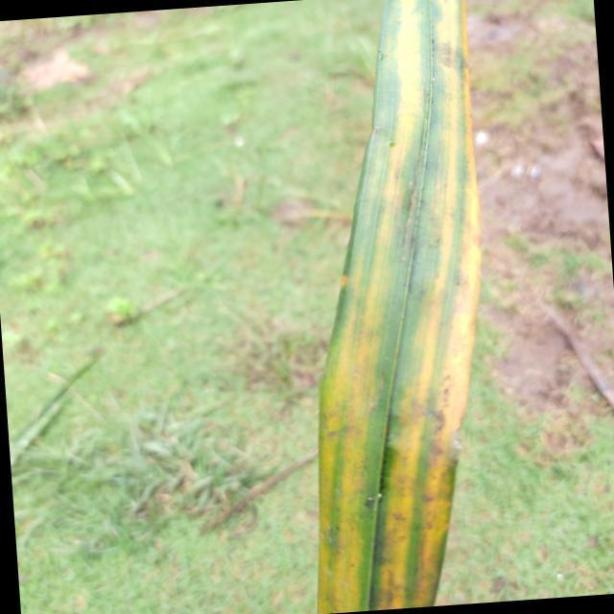Megnesium: (317, 0, 478, 610)
